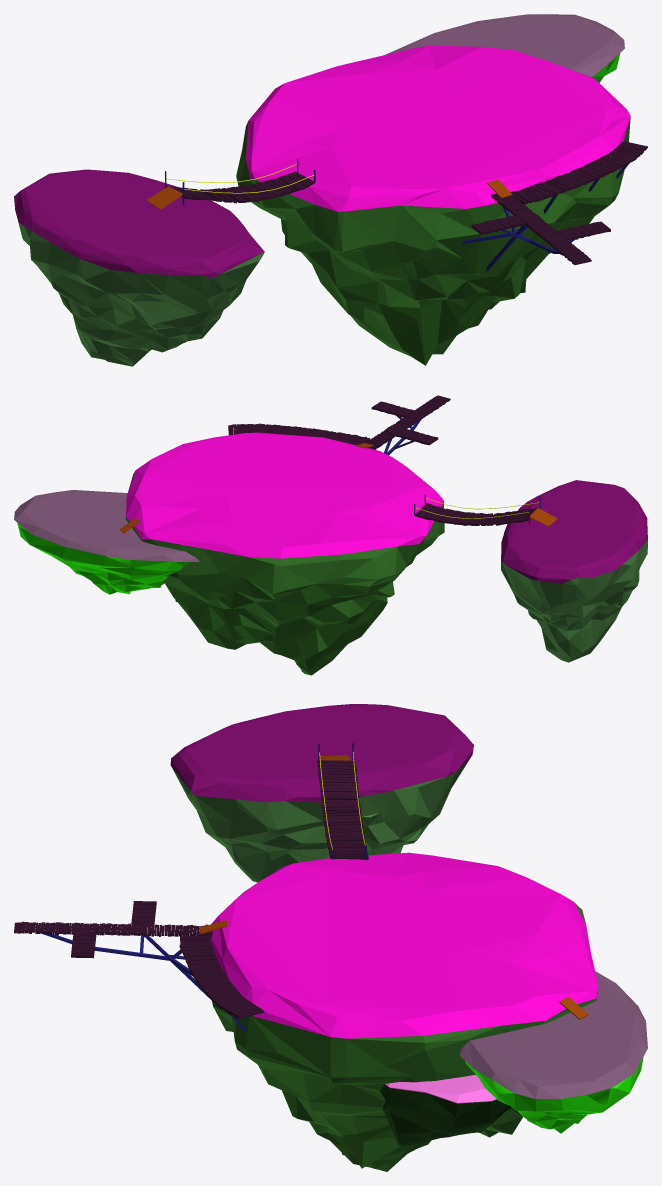
Rendered from FloatPlatform.dae.
3 views of the same model, one above another, from view 1: azimuth 30°, elevation 25°; view 2: azimuth 150°, elevation 25°; view 3: azimuth 270°, elevation 25° (orthographic). The views are drawn at different scales.
Parts seen in each view (by area): view 1: Main_island (×2), Merchant_island (×2), Texture_set_magenta, Mechanic_island, Texture_set_blue, Texture_set_orange; view 2: Main_island (×2), Merchant_island (×2), Mechanic_island (×2), Texture_set_magenta, Texture_set_orange; view 3: Main_island (×2), Merchant_island (×2), Mechanic_island (×2), Texture_set_magenta, Of_shoot_island (×2), Texture_set_blue, Texture_set_orange.
Part boxes in pixels (x1,y1,x2,y2): Main_island (×2): (236,45,630,365); Merchant_island (×2): (14,169,264,366); Texture_set_magenta: (166,141,647,264); Mechanic_island: (385,14,624,76); Texture_set_blue: (165,159,627,271); Texture_set_orange: (146,179,512,209); Main_island (×2): (125,432,444,675); Merchant_island (×2): (501,480,647,662); Mechanic_island (×2): (14,490,199,594); Texture_set_magenta: (228,395,539,525); Texture_set_orange: (119,443,557,533); Main_island (×2): (211,852,598,1171); Merchant_island (×2): (170,704,473,882); Mechanic_island (×2): (459,971,647,1133); Texture_set_magenta: (14,760,368,1018); Of_shoot_island (×2): (380,1074,511,1146); Texture_set_blue: (37,743,366,1031); Texture_set_orange: (199,755,588,1019).
Bounding box in the file's own units: 172 × 63.95 × 128.
